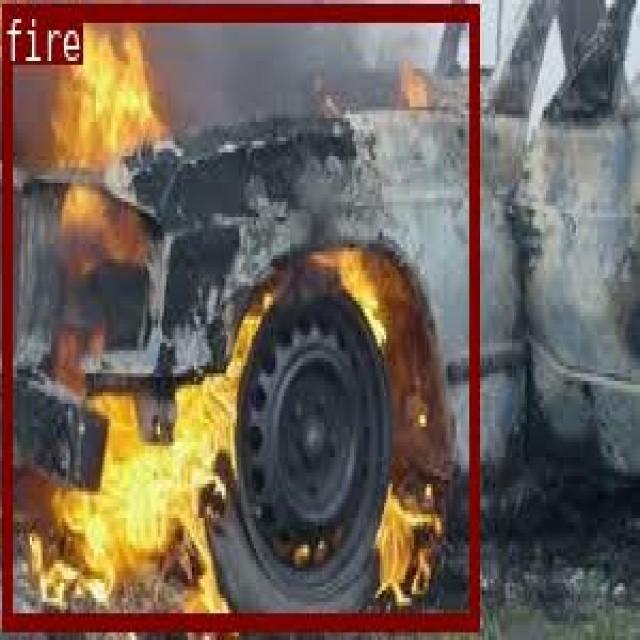fire: (1, 2, 476, 626)
